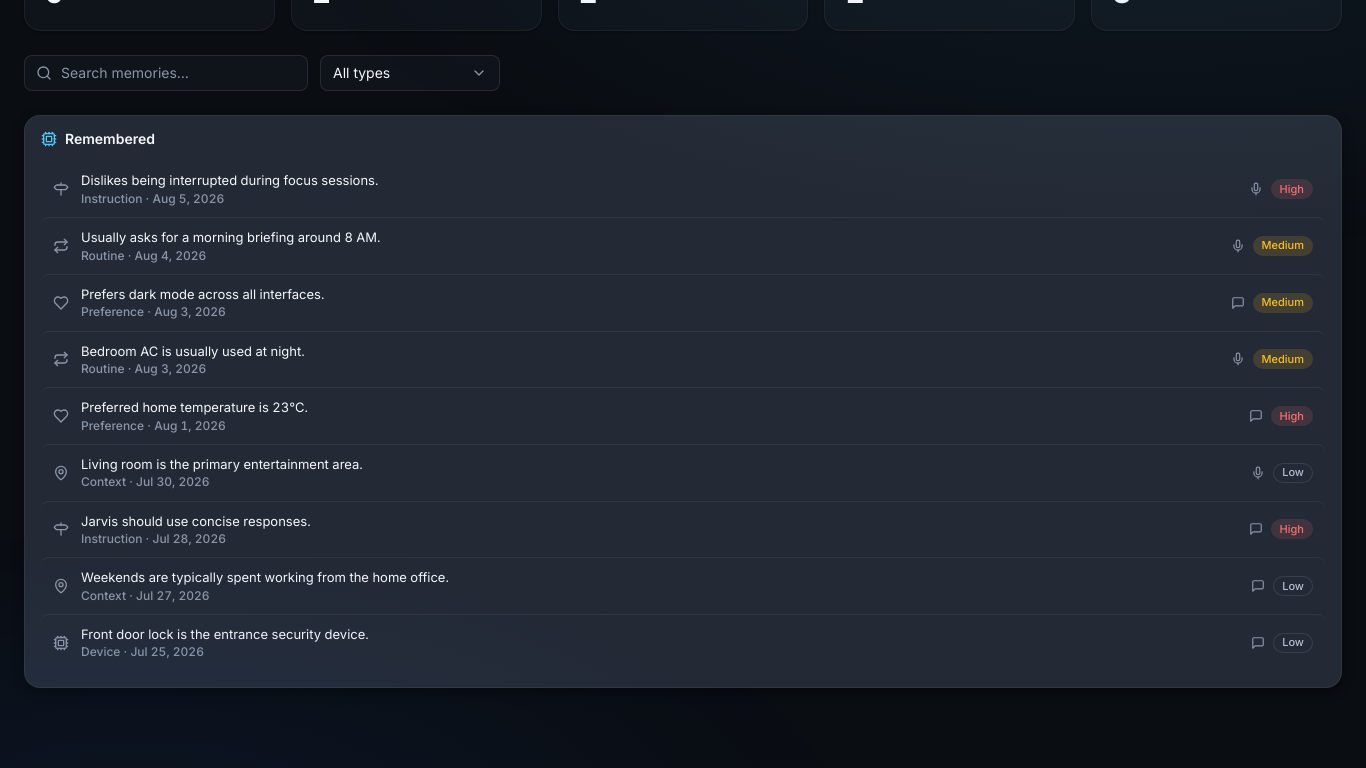
Test: MemoryPage › forgets a memory after confirming, closing the drawer and dropping it from the list
(page scrolled)
Click the button with test id "memory-row-mem-9" at coordinates (265, 577), box [41,557,1325,614]
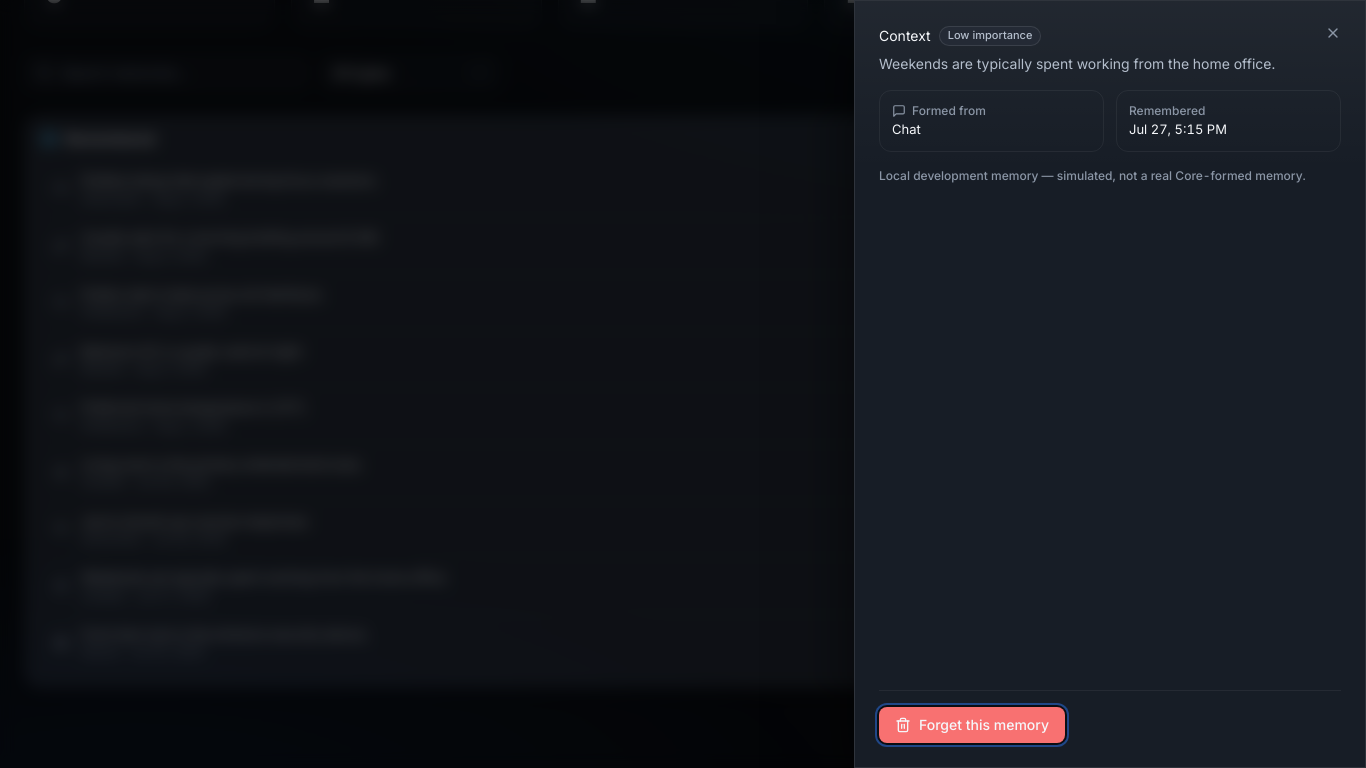
Expected: the dialog with test id "memory-detail-drawer" is shown, [854,0,1365,767]
Click the button with test id "memory-forget-trigger" at coordinates (972, 725), box [879,707,1065,743]
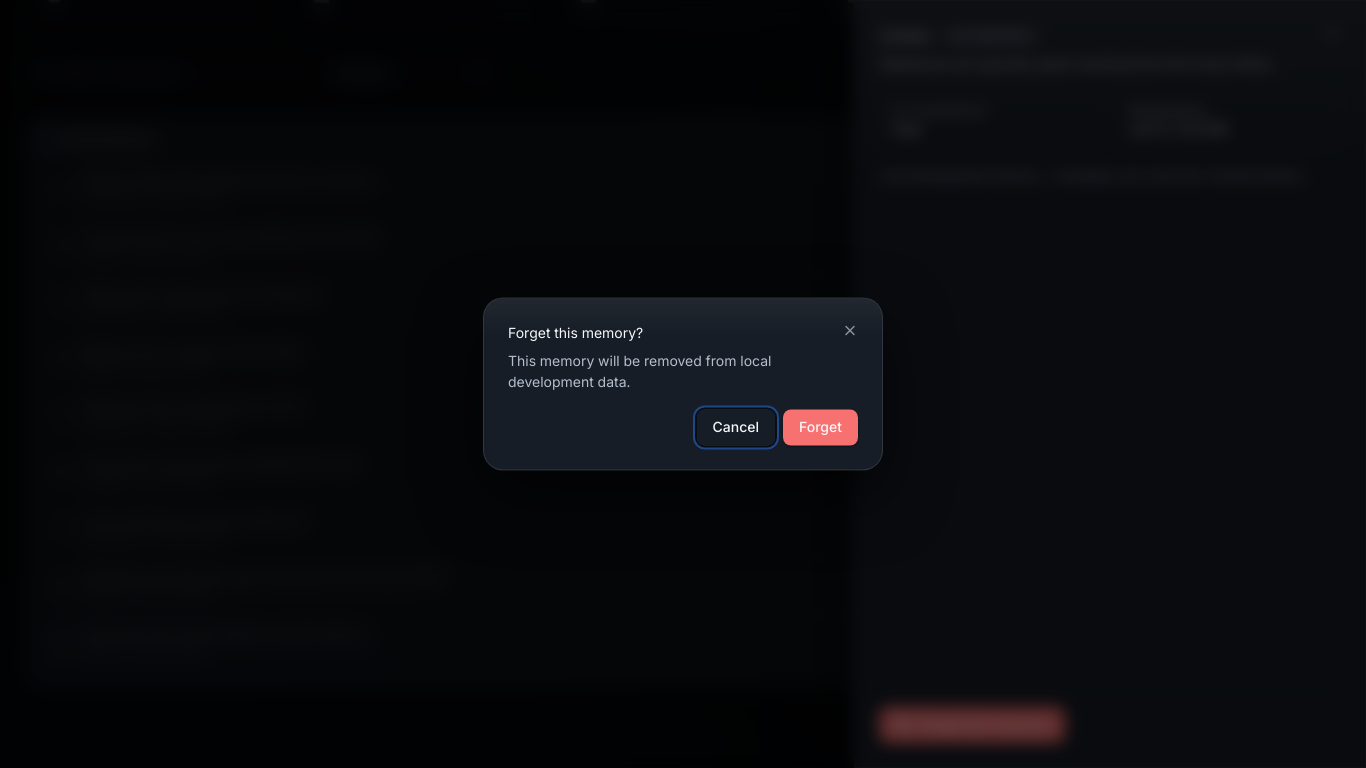
Expected: the heading "Forget this memory?" is shown, [508,324,643,342]
Expected: the text "This memory will be removed from local development data." is shown, [508,352,771,391]
Click the button with test id "memory-forget-confirm" at coordinates (820, 428), box [783,410,858,446]
(page scrolled)
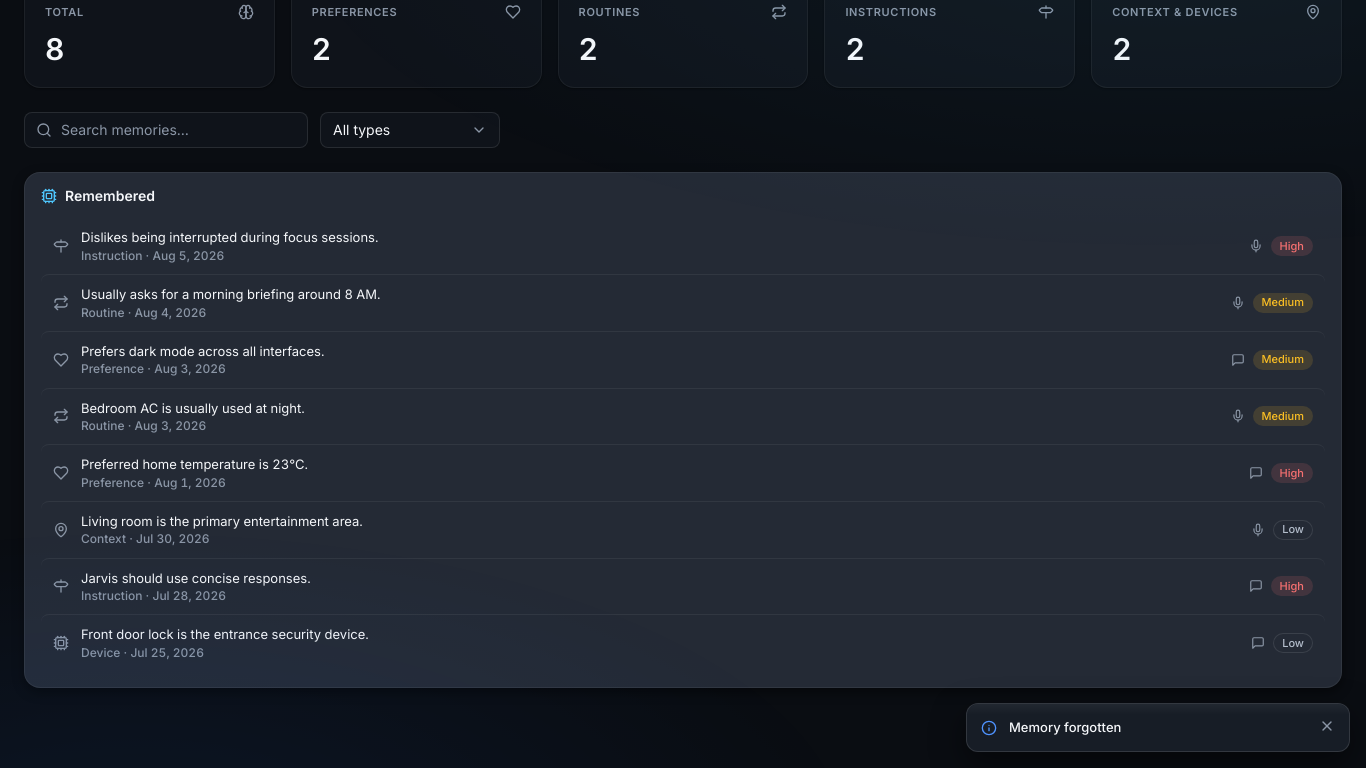
Expected: the text "Memory forgotten" is shown, [1009,718,1121,734]
Expected: the button with test id "memory-row-mem-9" is gone
Expected: the dialog with test id "memory-detail-drawer" is gone
